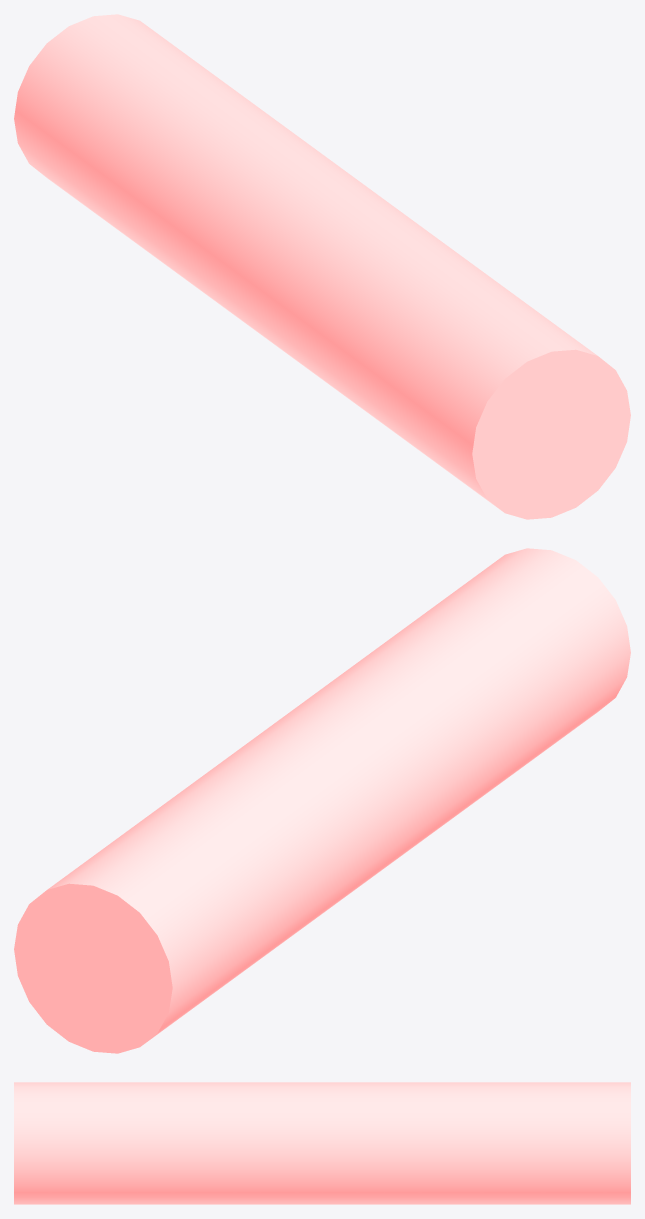
File: Laser.fbx
The picture shows the model from 3 angles, top to bottom: view 1: azimuth 30°, elevation 25°; view 2: azimuth 150°, elevation 25°; view 3: azimuth 270°, elevation 25°; orthographic projection. The views are drawn at different scales.
Parts seen in each view (by area): view 1: pCylinder1; view 2: pCylinder1; view 3: pCylinder1.
Boxes of the visible parts, left/top/right/bottom form: pCylinder1: left=14, top=14, right=630, bottom=519; pCylinder1: left=14, top=548, right=630, bottom=1053; pCylinder1: left=14, top=1082, right=630, bottom=1204.
Bounding box in the file's own units: 0.2 × 0.2 × 1.
